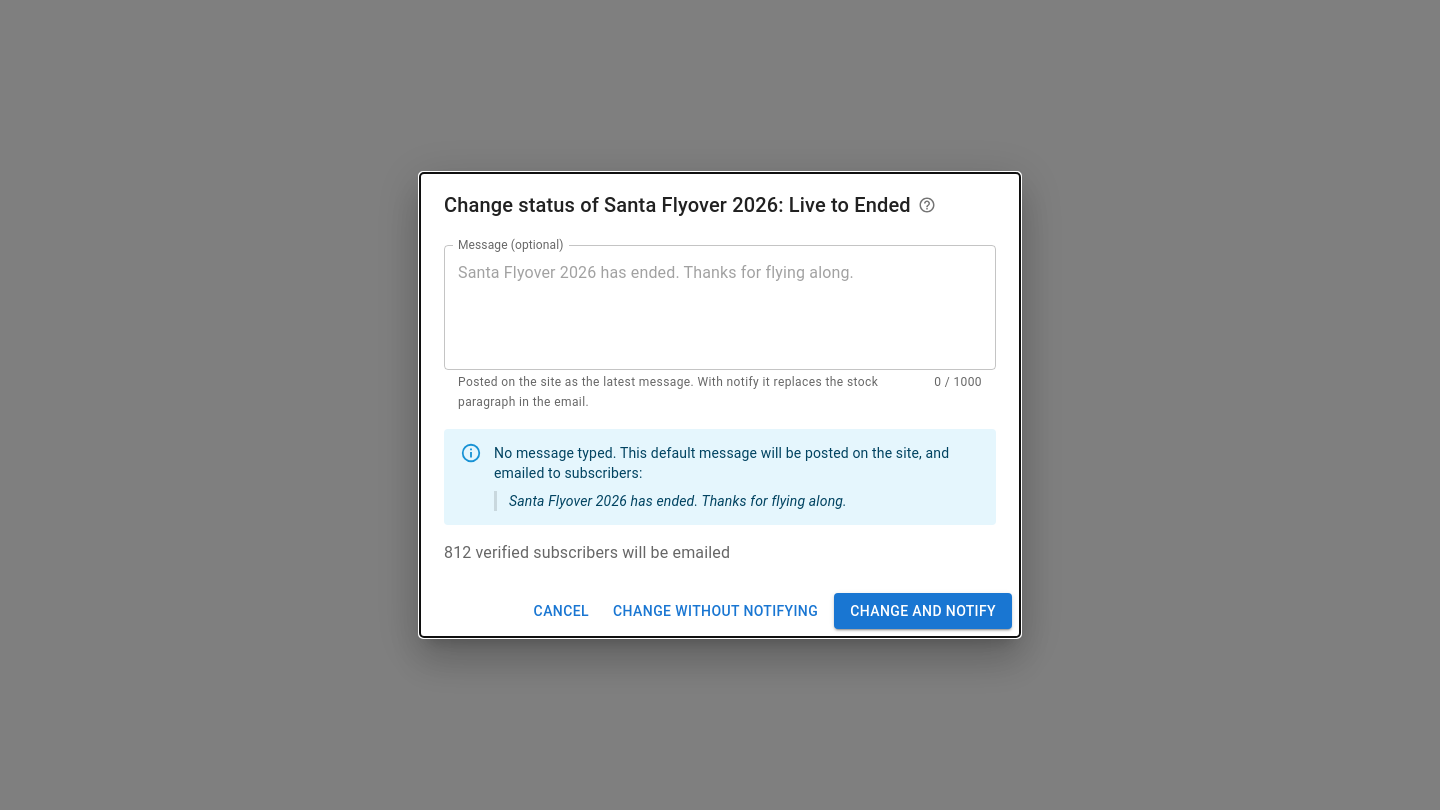
it: StatusDialog › shows the default message notice with the paragraph while the field is empty and hides it on typing
Expected: the message with test id "default-message-notice" shows "No message typed. This default message will be posted on the site, and emailed to subscribers:", left=494, top=445, right=949, bottom=481
Type "S" into the text box labelled "Message (optional)".
click(720, 307); type("S")  # box left=458, top=261, right=982, bottom=353
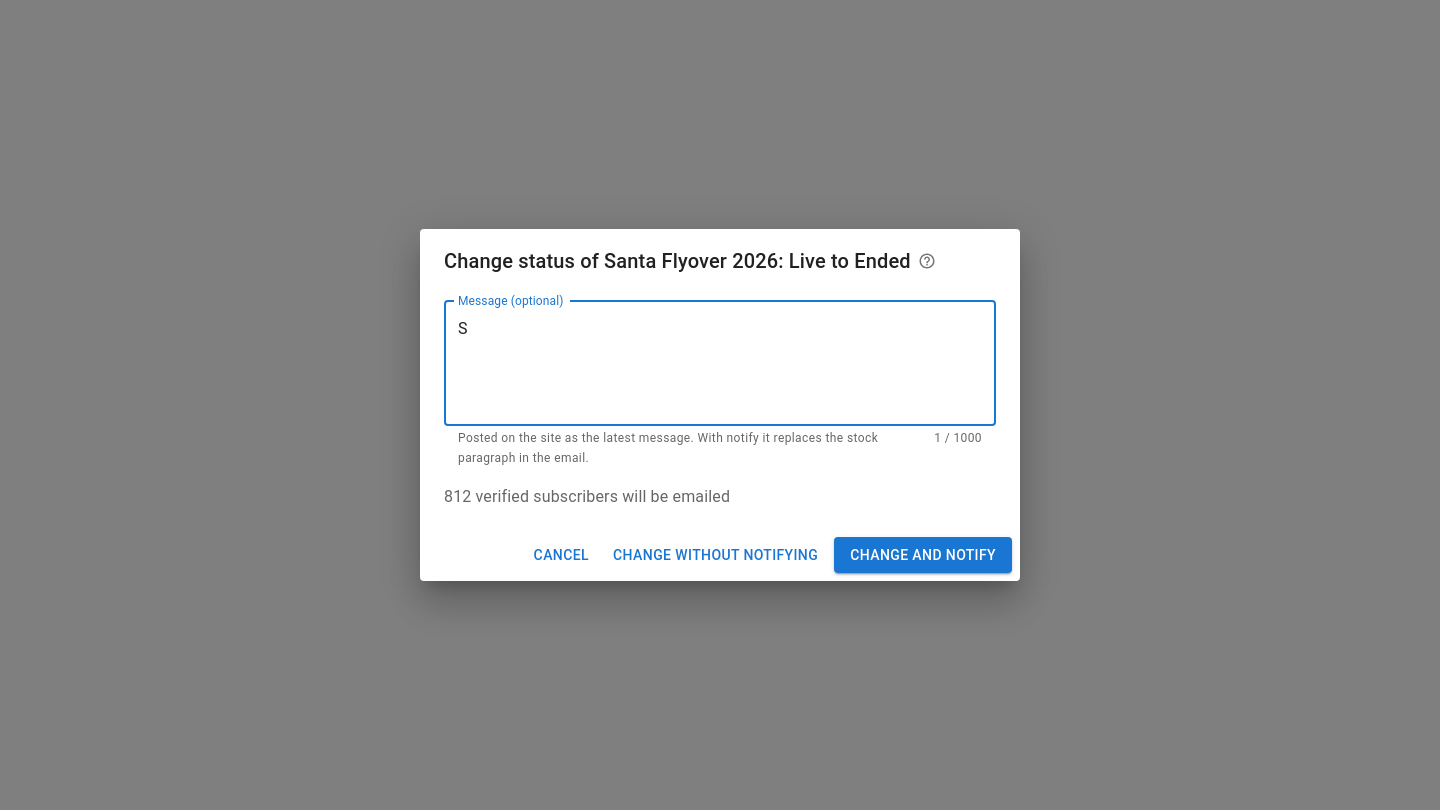
Result: the message with test id "default-message-notice" is gone
Clear the text box labelled "Message (optional)" at (720, 363), box left=458, top=317, right=982, bottom=409
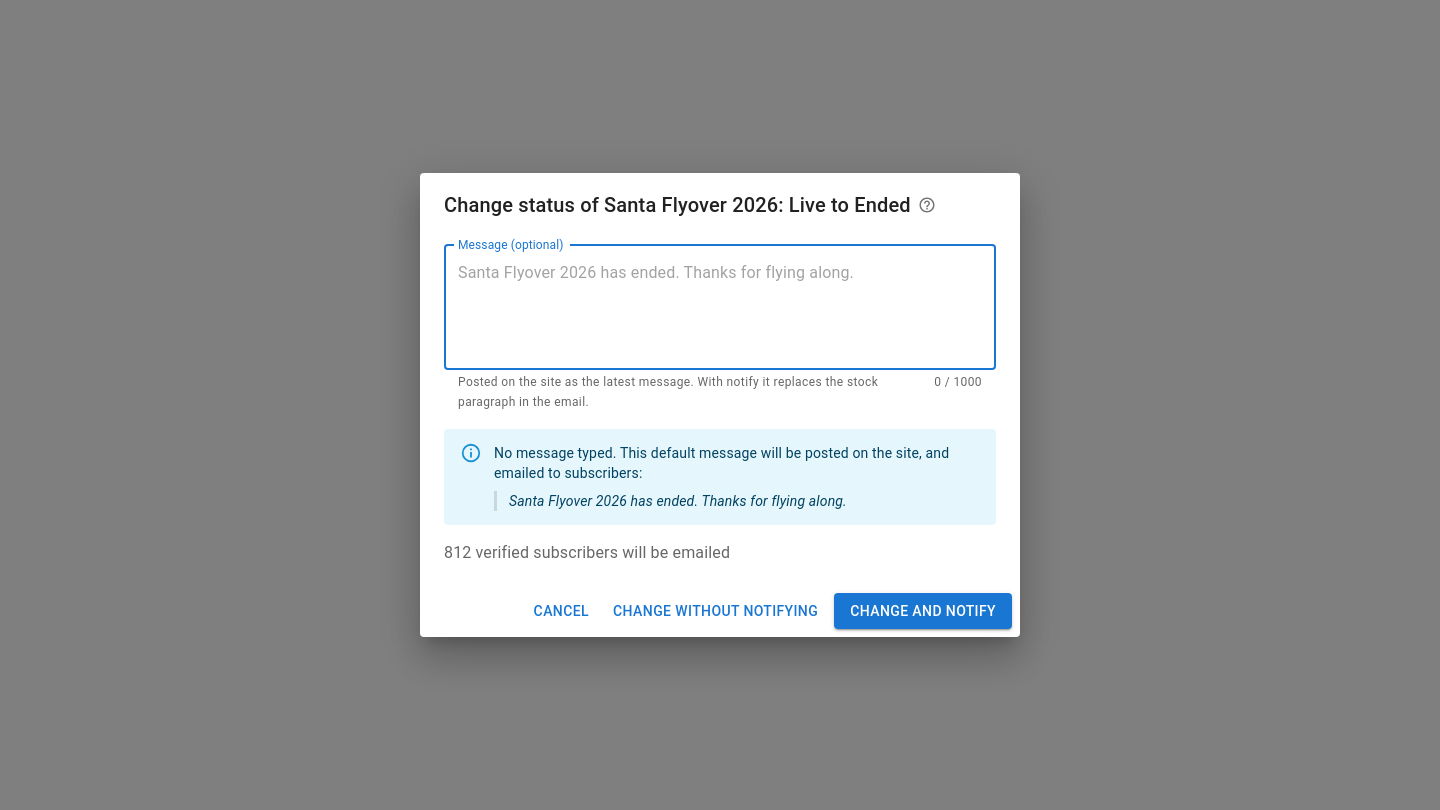
Result: the message with test id "default-message-notice" is shown at left=444, top=429, right=996, bottom=525
